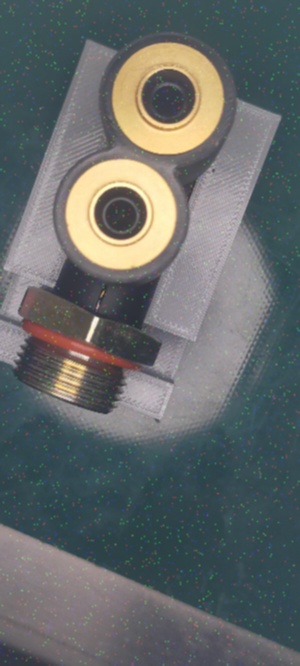craze: (94, 285, 106, 314)
